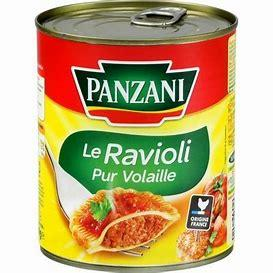metal: (36, 1, 238, 268)
